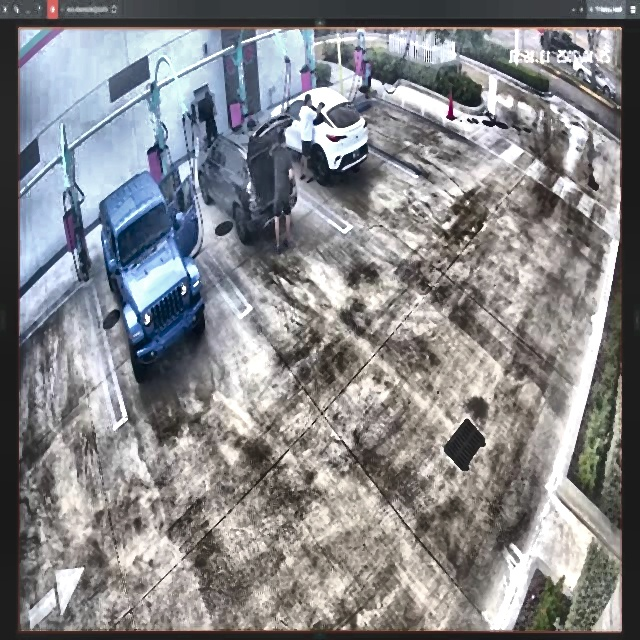Car: (98, 168, 207, 372), (201, 117, 292, 243), (268, 86, 371, 188)
